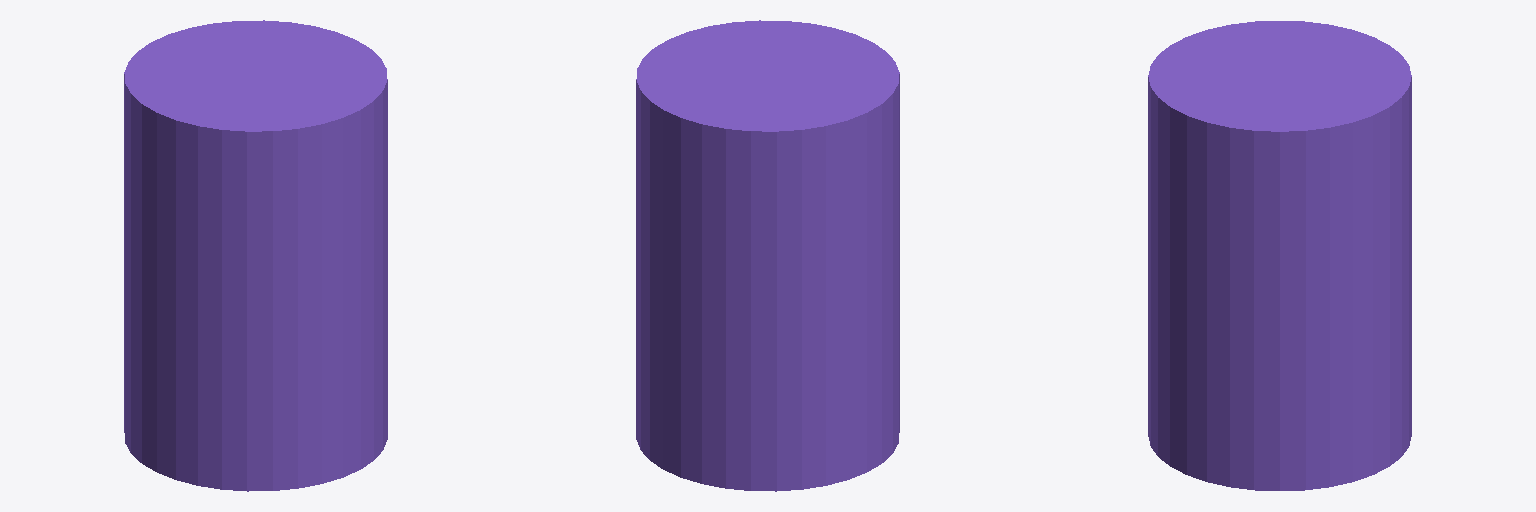
The robot description file, URDF, robot "cube":
<?xml version="1.0"?>
 <robot name="cube">
   <material name="purple">
     <color rgba="0.57647059 0.43921569 0.85882353 1"/>
   </material>
   <link name="base_link">
     <visual>
       <geometry>
         <cylinder length="10.185500144958496" radius="3.3829689025878906"/>
       </geometry>
       <material name="purple"/>
     </visual>
     <inertial>
       <mass value="0"/>
       <inertia ixx="1.0" ixy="0.0" ixz="0.0" iyy="1.0" iyz="0.0" izz="1.0"/>
     </inertial>
   </link>
 </robot>

--- What the picture shows (computed from the rendered views, not written in the file) ---
The picture shows the robot from 3 angles, left to right: view 1: azimuth 30°, elevation 25°; view 2: azimuth 150°, elevation 25°; view 3: azimuth 270°, elevation 25°; orthographic projection.
Robot: cube — 1 links, 0 joints (none); root link base_link; default pose: every joint at zero.
Visible links, largest first — view 1: base_link; view 2: base_link; view 3: base_link.
Link boxes in pixels (<box>): base_link: <box>124,20,387,491</box>; base_link: <box>636,20,899,491</box>; base_link: <box>1148,21,1411,490</box>.
Bounding box of the posed robot: 6.77 × 6.77 × 10.19 m (x, y, z).
Geometry: primitives only (box / cylinder / sphere), no mesh files.